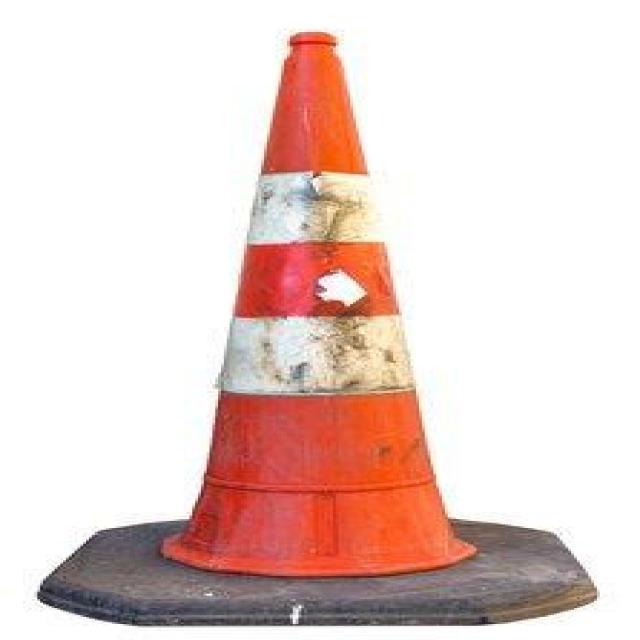Cono de seguridad: (34, 28, 599, 628)
